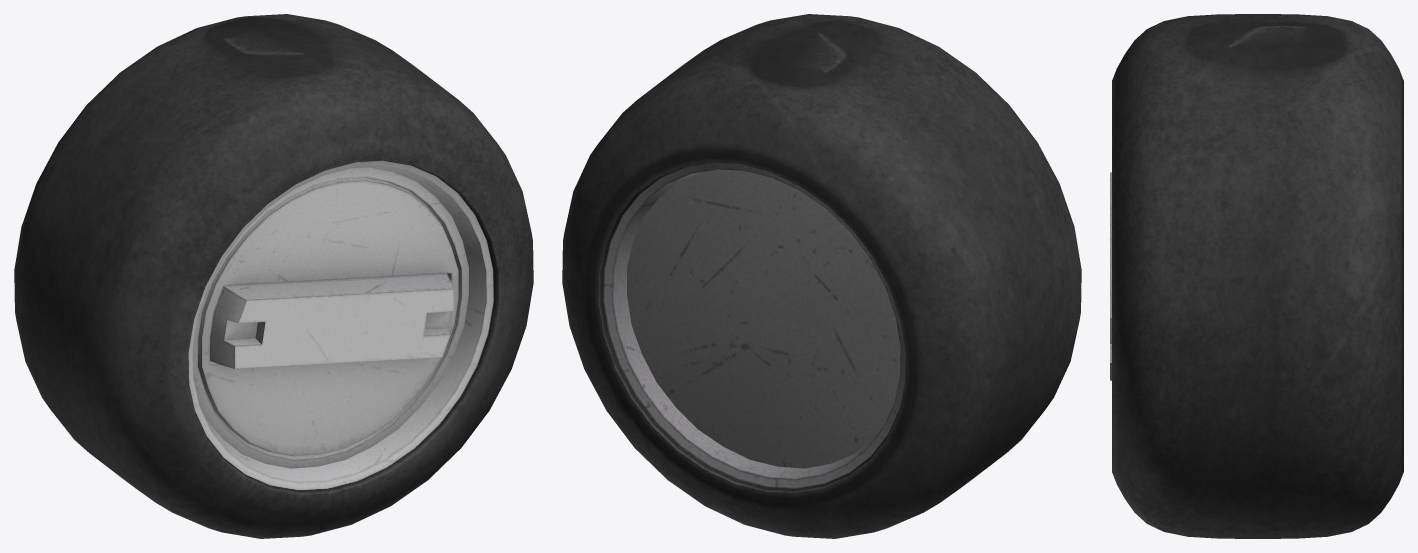
Rendered from tyre_3.glb.
The picture shows the model from 3 angles, left to right: view 1: azimuth 30°, elevation 25°; view 2: azimuth 150°, elevation 25°; view 3: azimuth 270°, elevation 25°; orthographic projection. The views are drawn at different scales.
Visible parts, largest first — view 1: Circle004_MatWheel_0; view 2: Circle004_MatWheel_0; view 3: Circle004_MatWheel_0.
Part boxes in pixels (x1,y1,x2,y2): Circle004_MatWheel_0: (14, 14, 533, 538); Circle004_MatWheel_0: (562, 14, 1081, 538); Circle004_MatWheel_0: (1110, 14, 1403, 538).
Size of the model in its own units: 1.27 by 1.27 by 0.7121.
Materials: 1 (1 with a texture image).
